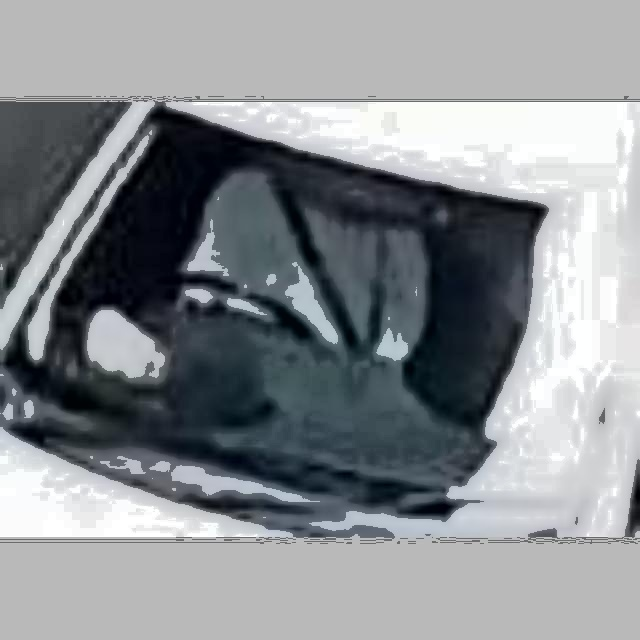pakai: (171, 152, 419, 383)
